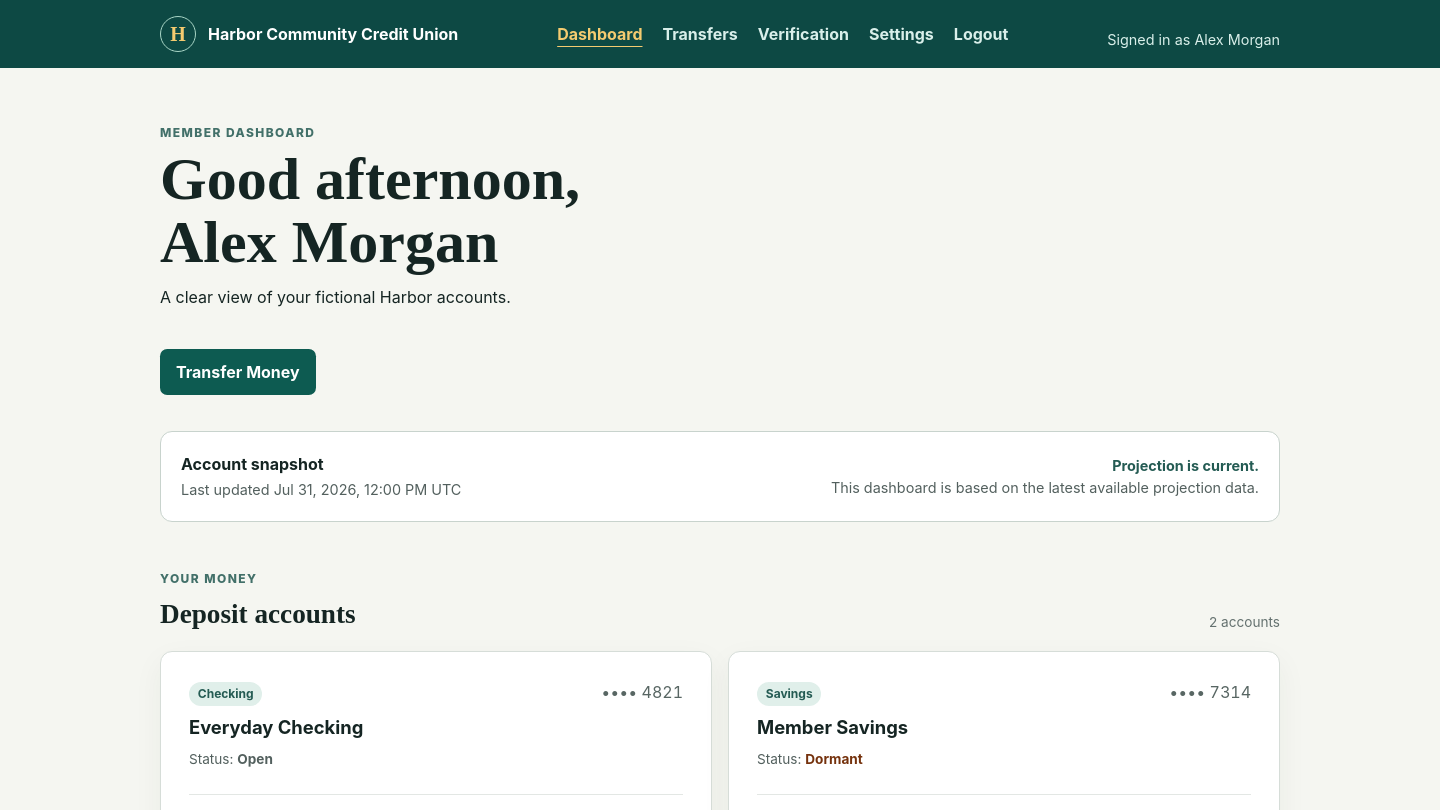
Scenario: authentication boundaries › logs out and removes protected information
Click the button "Logout" at (981, 34), box [954, 22, 1008, 46]
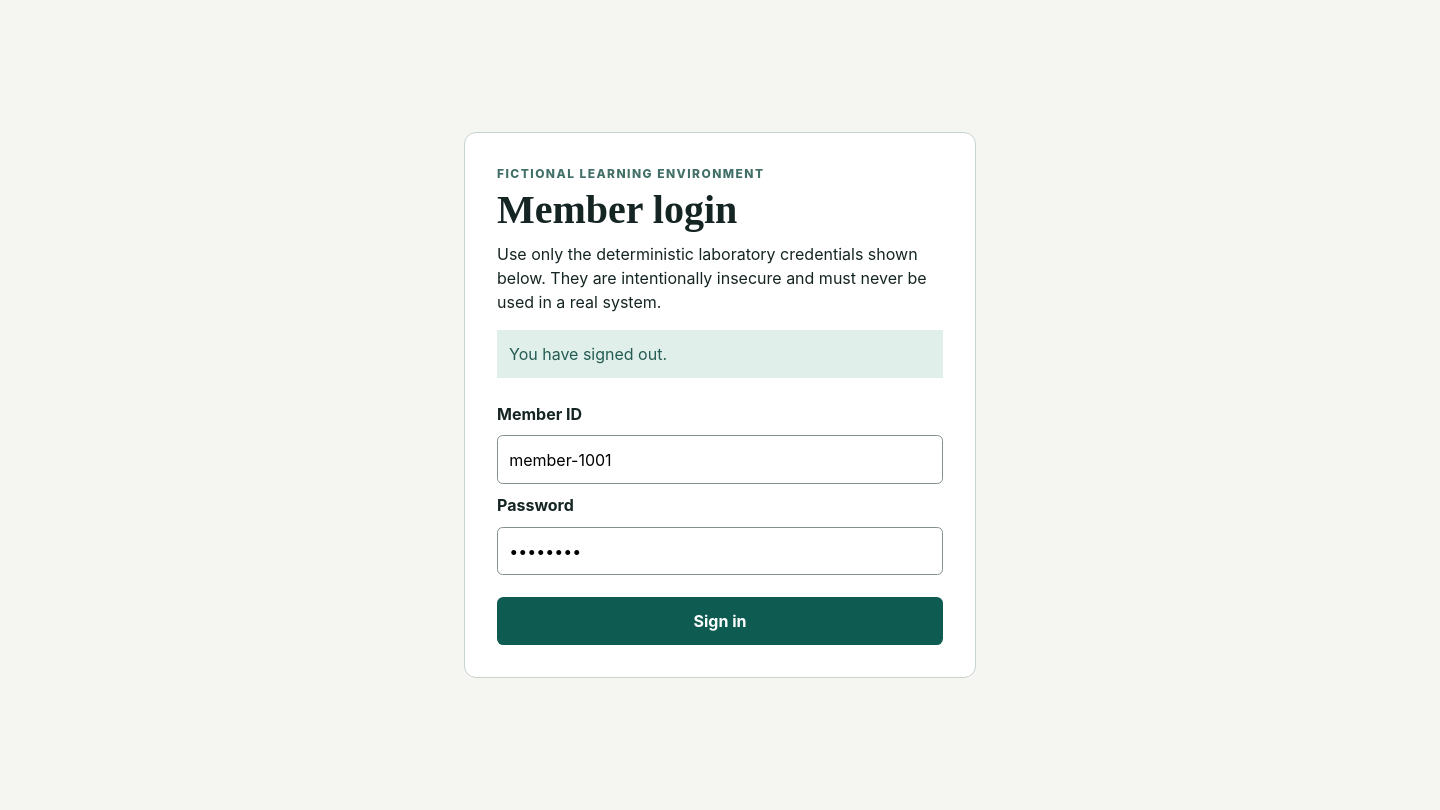
Expected: the heading "Member login" is shown, [497, 187, 737, 232]
